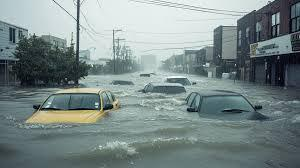water: (0, 69, 299, 167)
